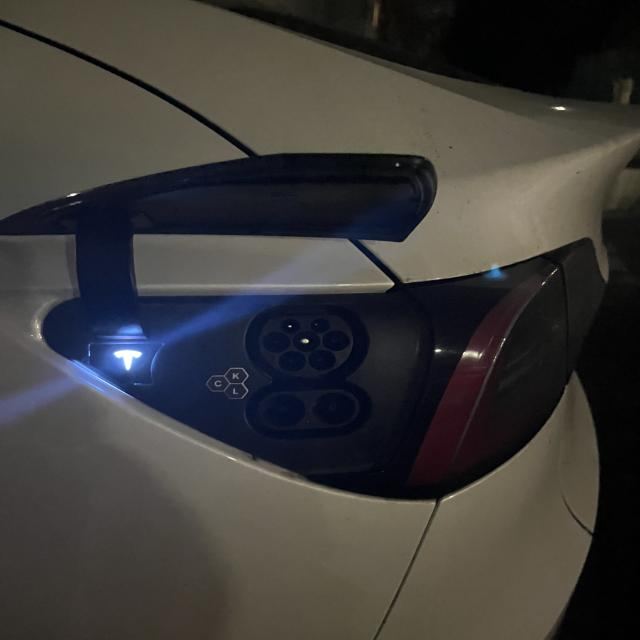inlet: (258, 314, 353, 376)
inlet-above-left: (281, 319, 300, 333)
inlet-above-right: (310, 318, 329, 332)
inlet-below-left: (278, 351, 306, 371)
inlet-below-right: (308, 350, 336, 370)
inlet-circle: (292, 331, 320, 352)
inlet-circle-left: (263, 331, 290, 353)
inlet-circle-right: (322, 331, 349, 351)
inlet-minus: (312, 392, 356, 425)
inlet-plus: (263, 395, 306, 426)
